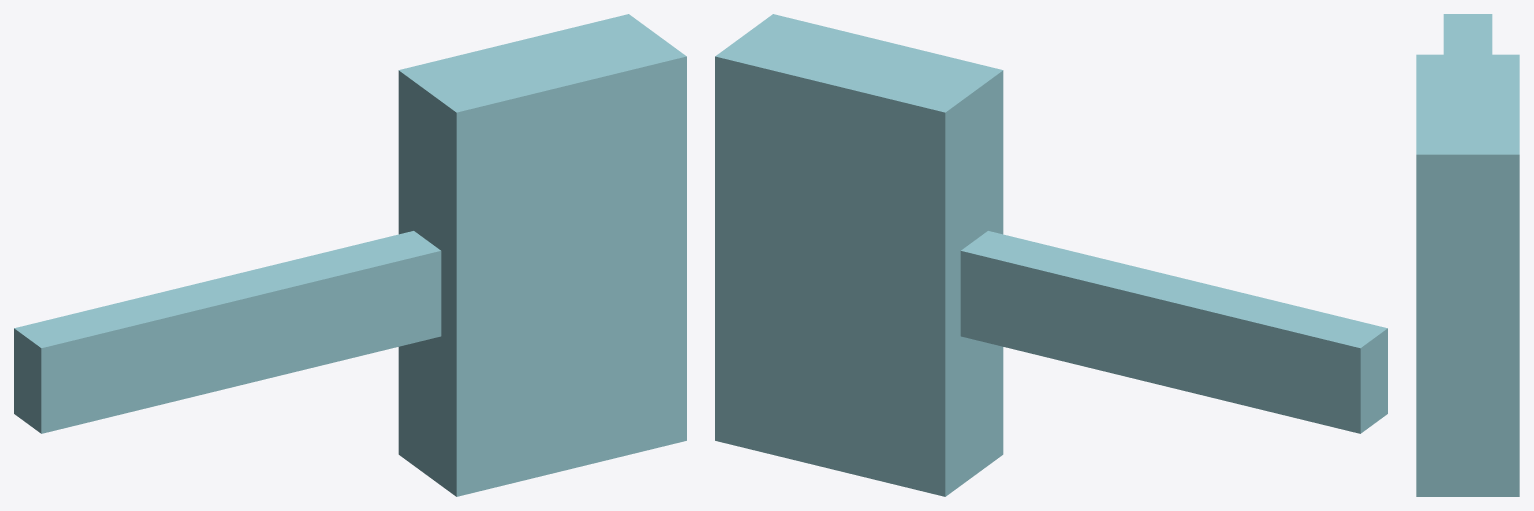
File: cuboid_brush_v10002.obj
3 renders of one model, left to right at view 1: azimuth 30°, elevation 25°; view 2: azimuth 150°, elevation 25°; view 3: azimuth 270°, elevation 25°, orthographic. The views are drawn at different scales.
Bounding box in the file's own units: 0.168 × 0.0979 × 0.0268.
1 material, 1 textured.
